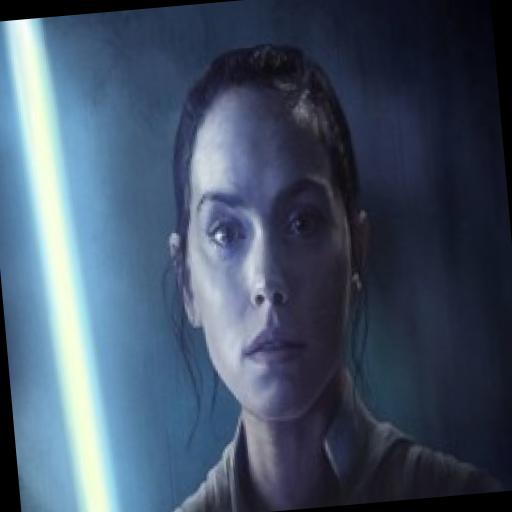human: (83, 19, 508, 512)
lightsaber: (1, 13, 140, 512)
